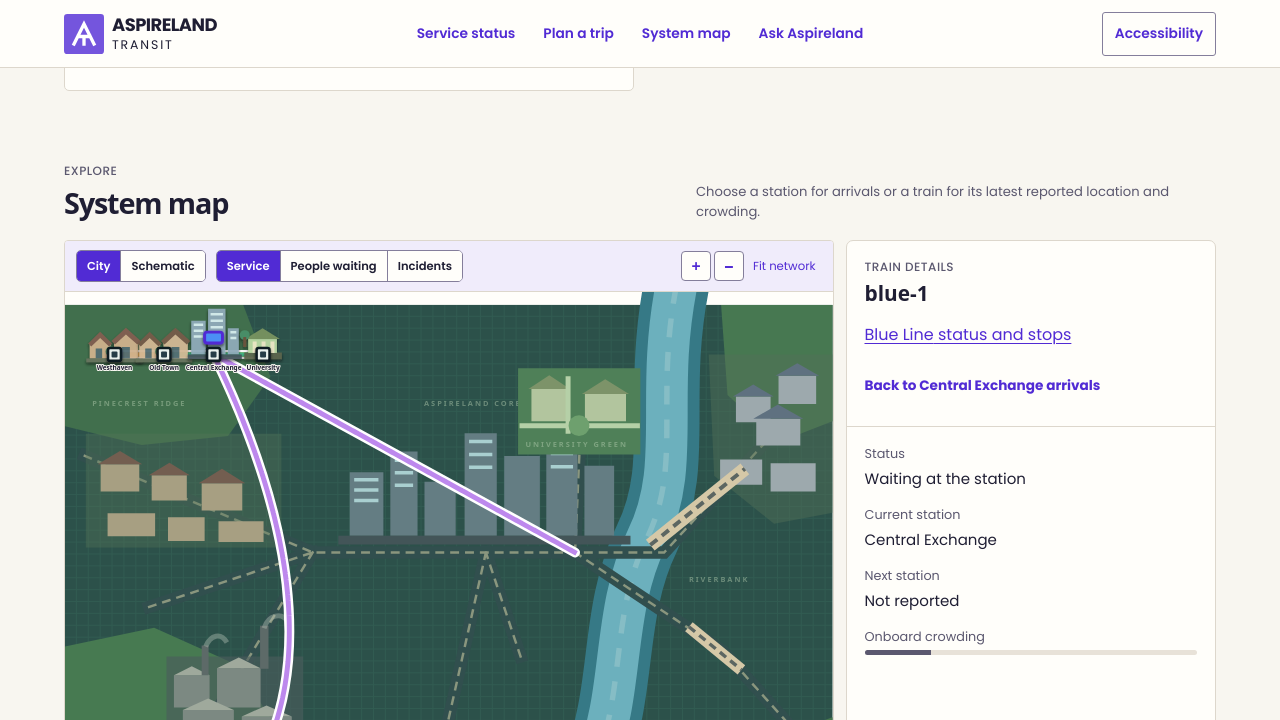
Scenario: keeps keyboard-selected train details current without inventing unknown locations
Earlier steps of the test are not shown.
Later steps or results of the test are not shown.
(page scrolled)
Expected: the text "Waiting at the station" is shown, [864,468,1026,489]
Expected: the text "Current station" is shown, [864,506,960,523]
Click the button "Back to Central Exchange arrivals": click(982, 386) [864,364,1100,408]
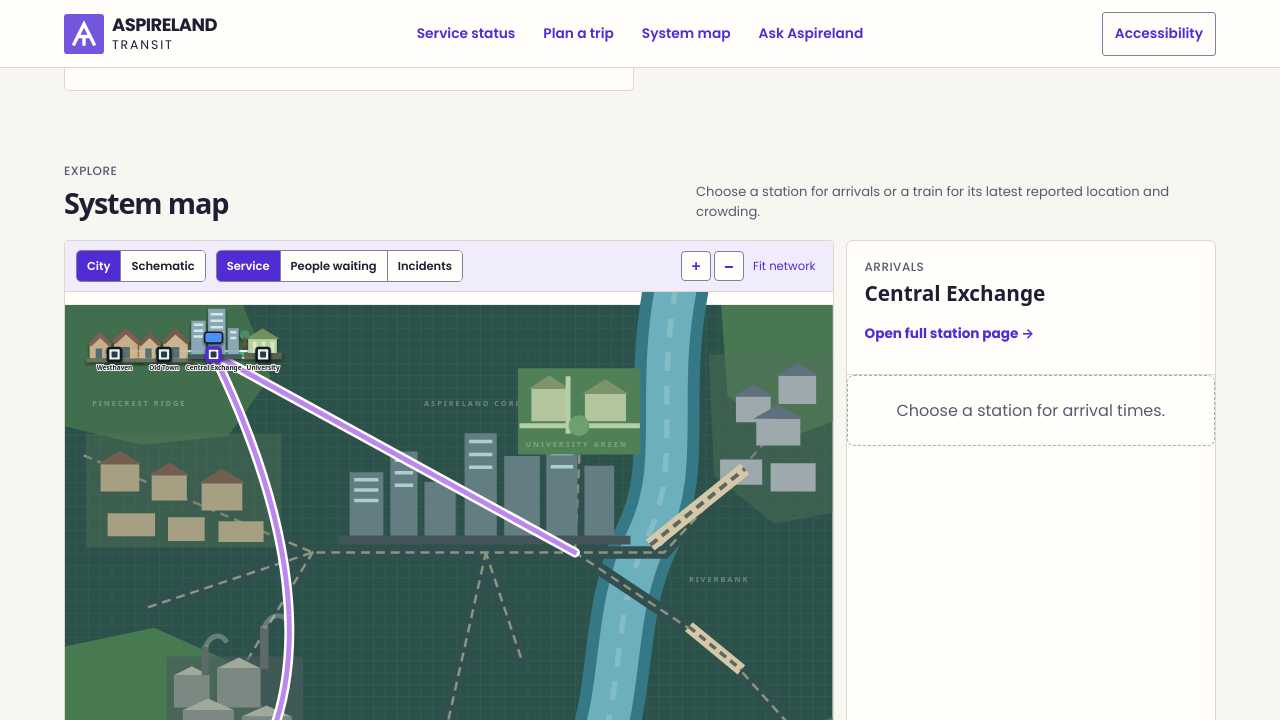
Now the text "Arrivals" is shown, box [864,258,924,275]
